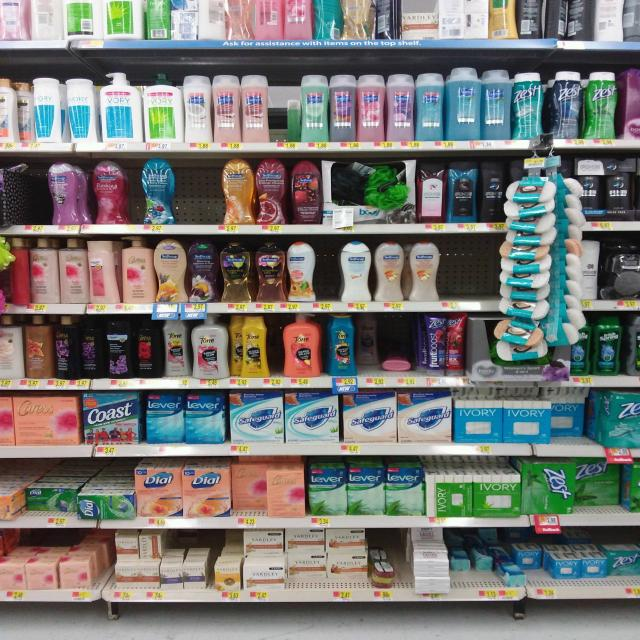void: (440, 235, 472, 312), (474, 235, 506, 312), (184, 157, 215, 235), (20, 163, 51, 235)
